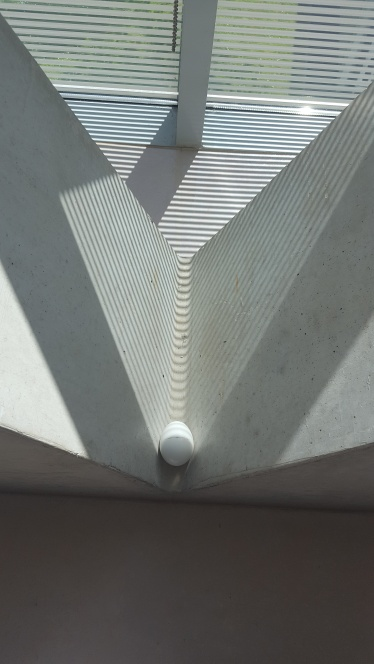egg: (159, 414, 195, 475)
